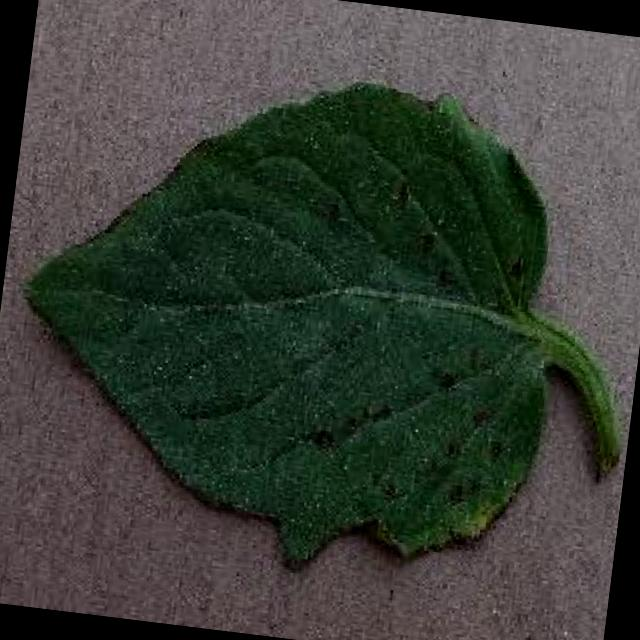bacterial spot: (18, 80, 613, 571)
